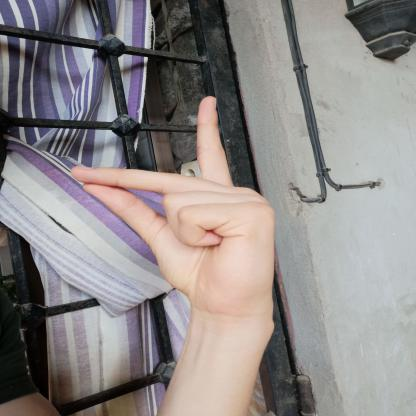TAA: (55, 81, 294, 332)
